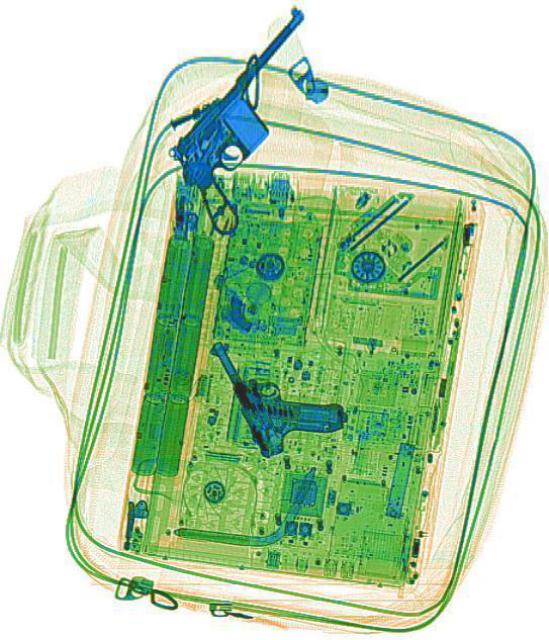Gun: (155, 4, 366, 236), (207, 299, 348, 465)
